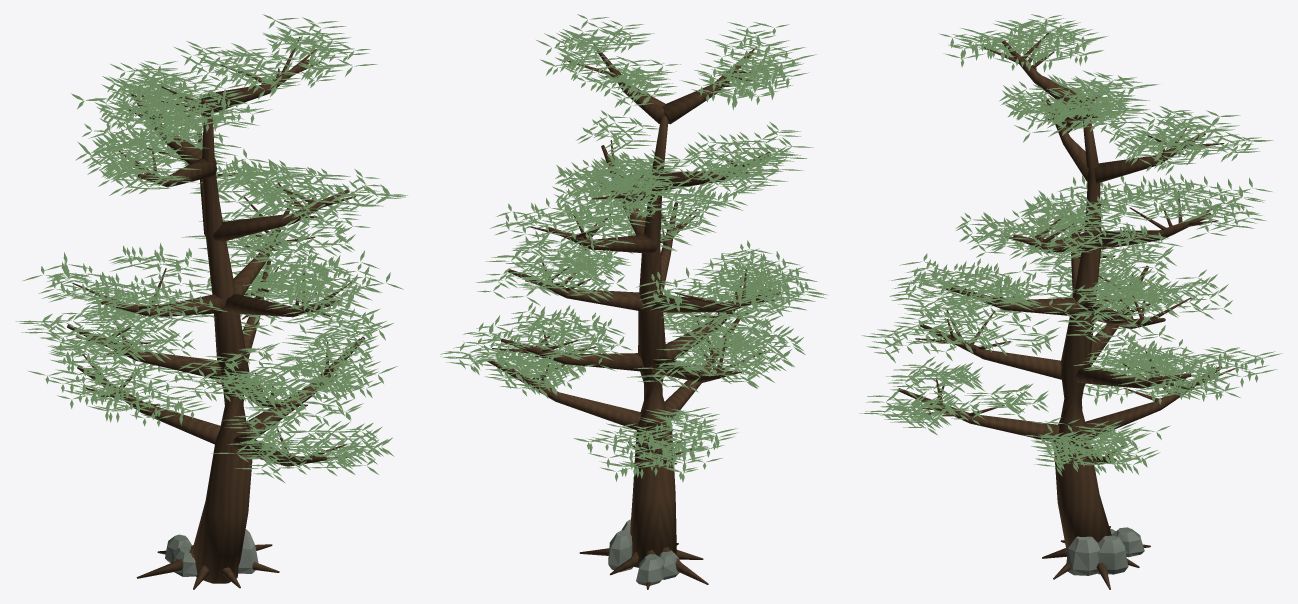
Rendered from v01_pine_rooted_0.fbx.
The picture shows the model from 3 angles, left to right: view 1: azimuth 30°, elevation 25°; view 2: azimuth 150°, elevation 25°; view 3: azimuth 270°, elevation 25°; orthographic projection. The views are drawn at different scales.
Visible parts, largest first — view 1: v01_pine_rooted_0.001; view 2: v01_pine_rooted_0.001; view 3: v01_pine_rooted_0.001.
Part boxes in pixels (<box>): v01_pine_rooted_0.001: <box>15,14,407,589</box>; v01_pine_rooted_0.001: <box>440,14,828,589</box>; v01_pine_rooted_0.001: <box>859,14,1281,589</box>.
Size of the model in its own units: 48259 by 46573 by 63234.
